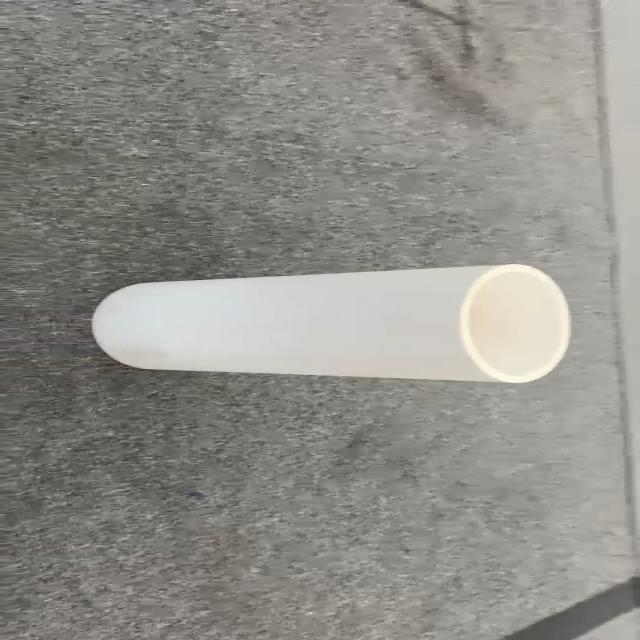coral: (90, 262, 572, 384)
